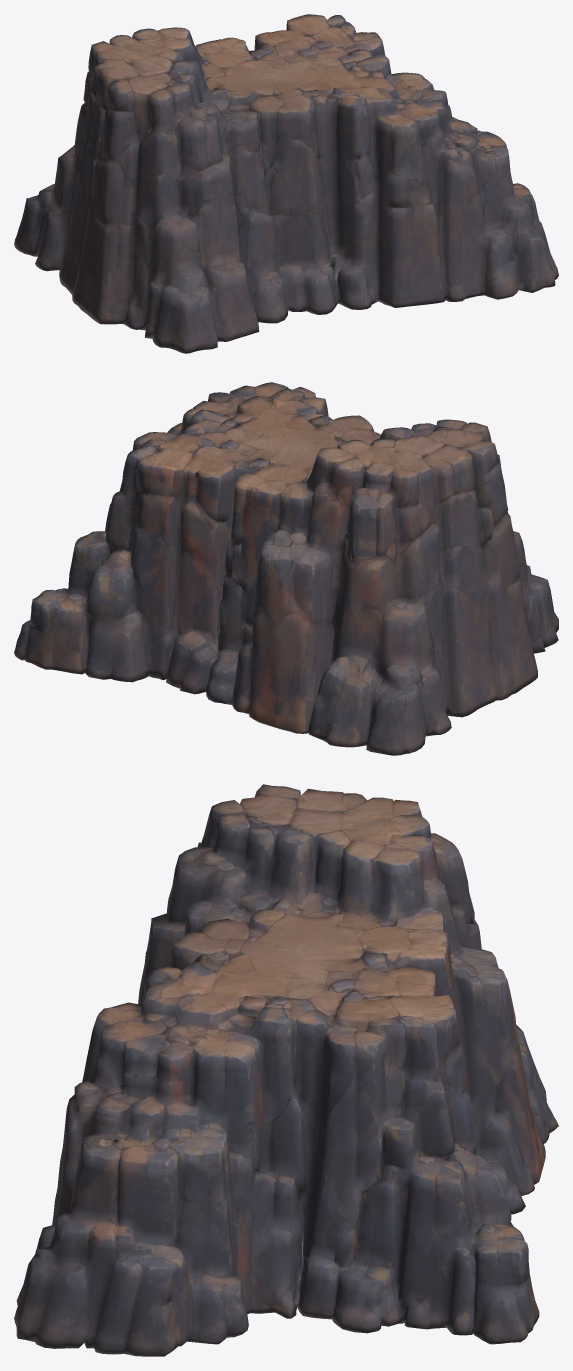
Rendered from pack-rocky-cliff.glb.
The picture shows the model from 3 angles, top to bottom: view 1: azimuth 30°, elevation 25°; view 2: azimuth 150°, elevation 25°; view 3: azimuth 270°, elevation 25°; orthographic projection. The views are drawn at different scales.
Visible parts, largest first — view 1: tripo_node_f865158a-16c4-401c-bda4-34f27906ec56; view 2: tripo_node_f865158a-16c4-401c-bda4-34f27906ec56; view 3: tripo_node_f865158a-16c4-401c-bda4-34f27906ec56.
Boxes of the visible parts, bbox=[...] form: tripo_node_f865158a-16c4-401c-bda4-34f27906ec56: bbox=[14, 14, 558, 353]; tripo_node_f865158a-16c4-401c-bda4-34f27906ec56: bbox=[14, 382, 558, 755]; tripo_node_f865158a-16c4-401c-bda4-34f27906ec56: bbox=[14, 784, 558, 1356].
Bounding box in the file's own units: 0.9771 × 0.499 × 0.7897.
Materials: 1 (1 with a texture image).
